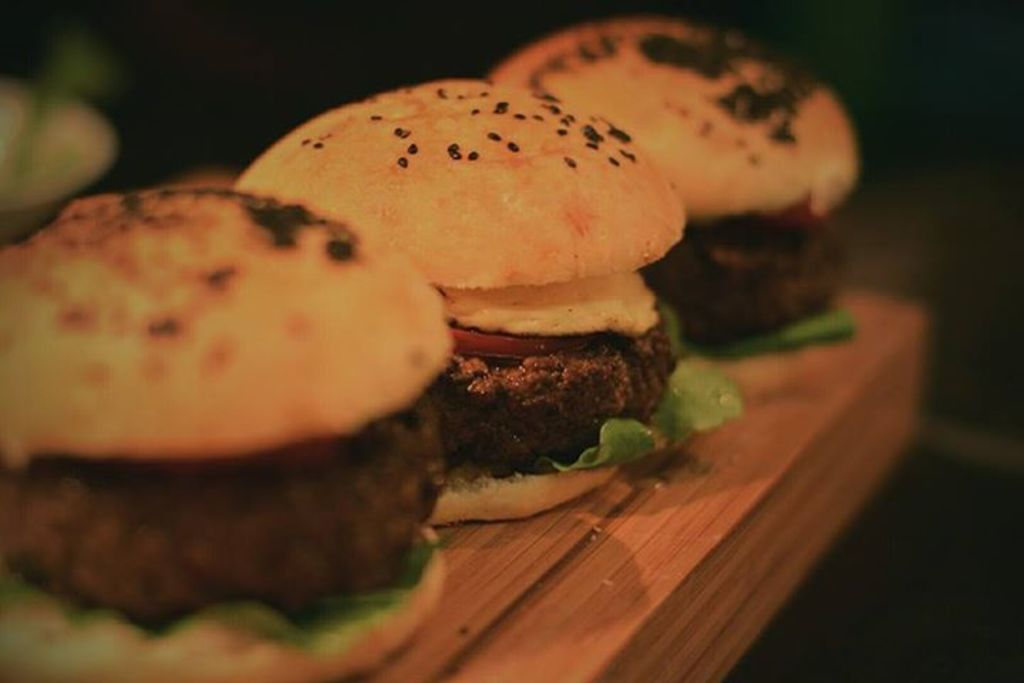Hamburger: (0, 184, 472, 681), (220, 78, 756, 515), (492, 14, 864, 327)
